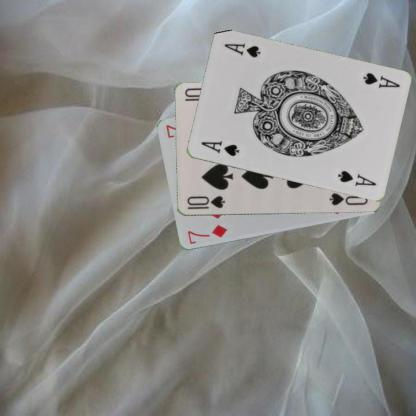10s: (184, 194, 226, 210)
7d: (184, 223, 228, 245)
As: (198, 139, 240, 158), (360, 70, 400, 89)
